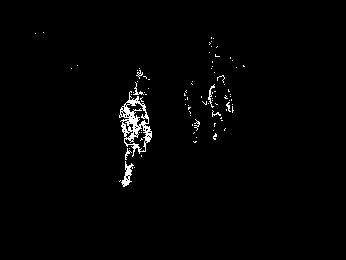person: (116, 89, 153, 188), (206, 74, 235, 141)
